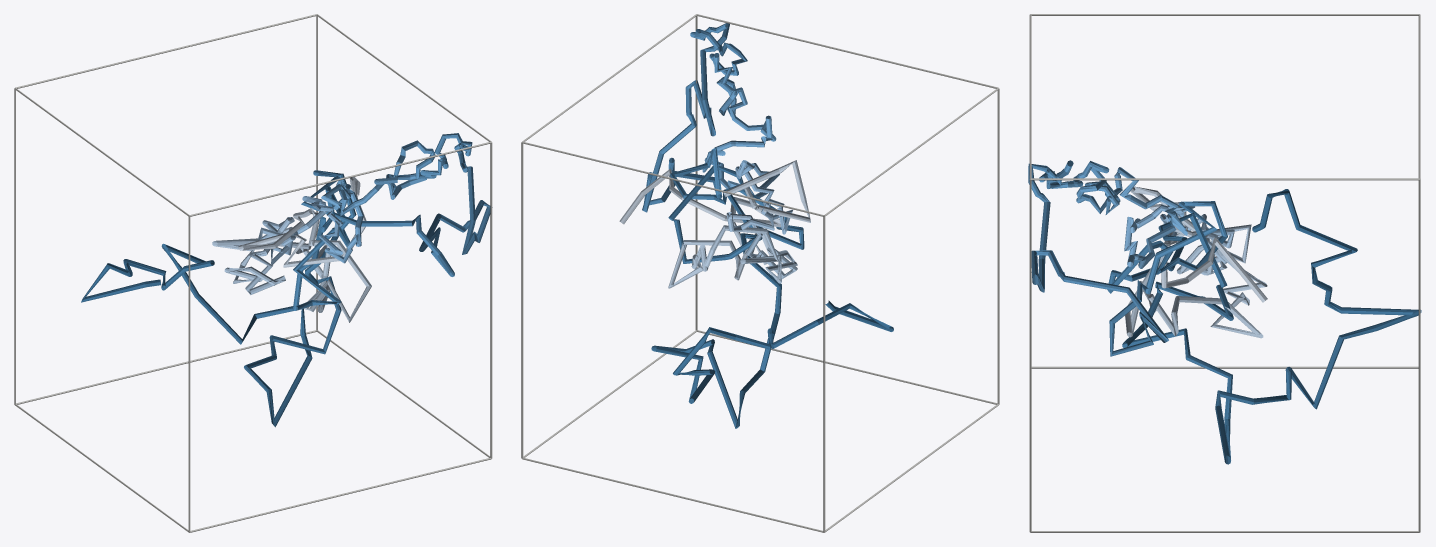
The picture shows the model from 3 angles, left to right: view 1: azimuth 30°, elevation 25°; view 2: azimuth 150°, elevation 25°; view 3: azimuth 270°, elevation 25°; orthographic projection. The views are drawn at different scales.
Parts seen in each view (by area): view 1: geometry_0, geometry_1; view 2: geometry_0, geometry_1; view 3: geometry_0, geometry_1.
Boxes of the visible parts, bbox=[...] form: geometry_0: bbox=[81, 133, 492, 427]; geometry_1: bbox=[14, 14, 492, 532]; geometry_0: bbox=[619, 23, 893, 428]; geometry_1: bbox=[521, 14, 999, 532]; geometry_0: bbox=[1028, 160, 1421, 464]; geometry_1: bbox=[1029, 14, 1420, 532].
Size of the model in its own units: 0.3039 by 0.3042 by 0.3033.
